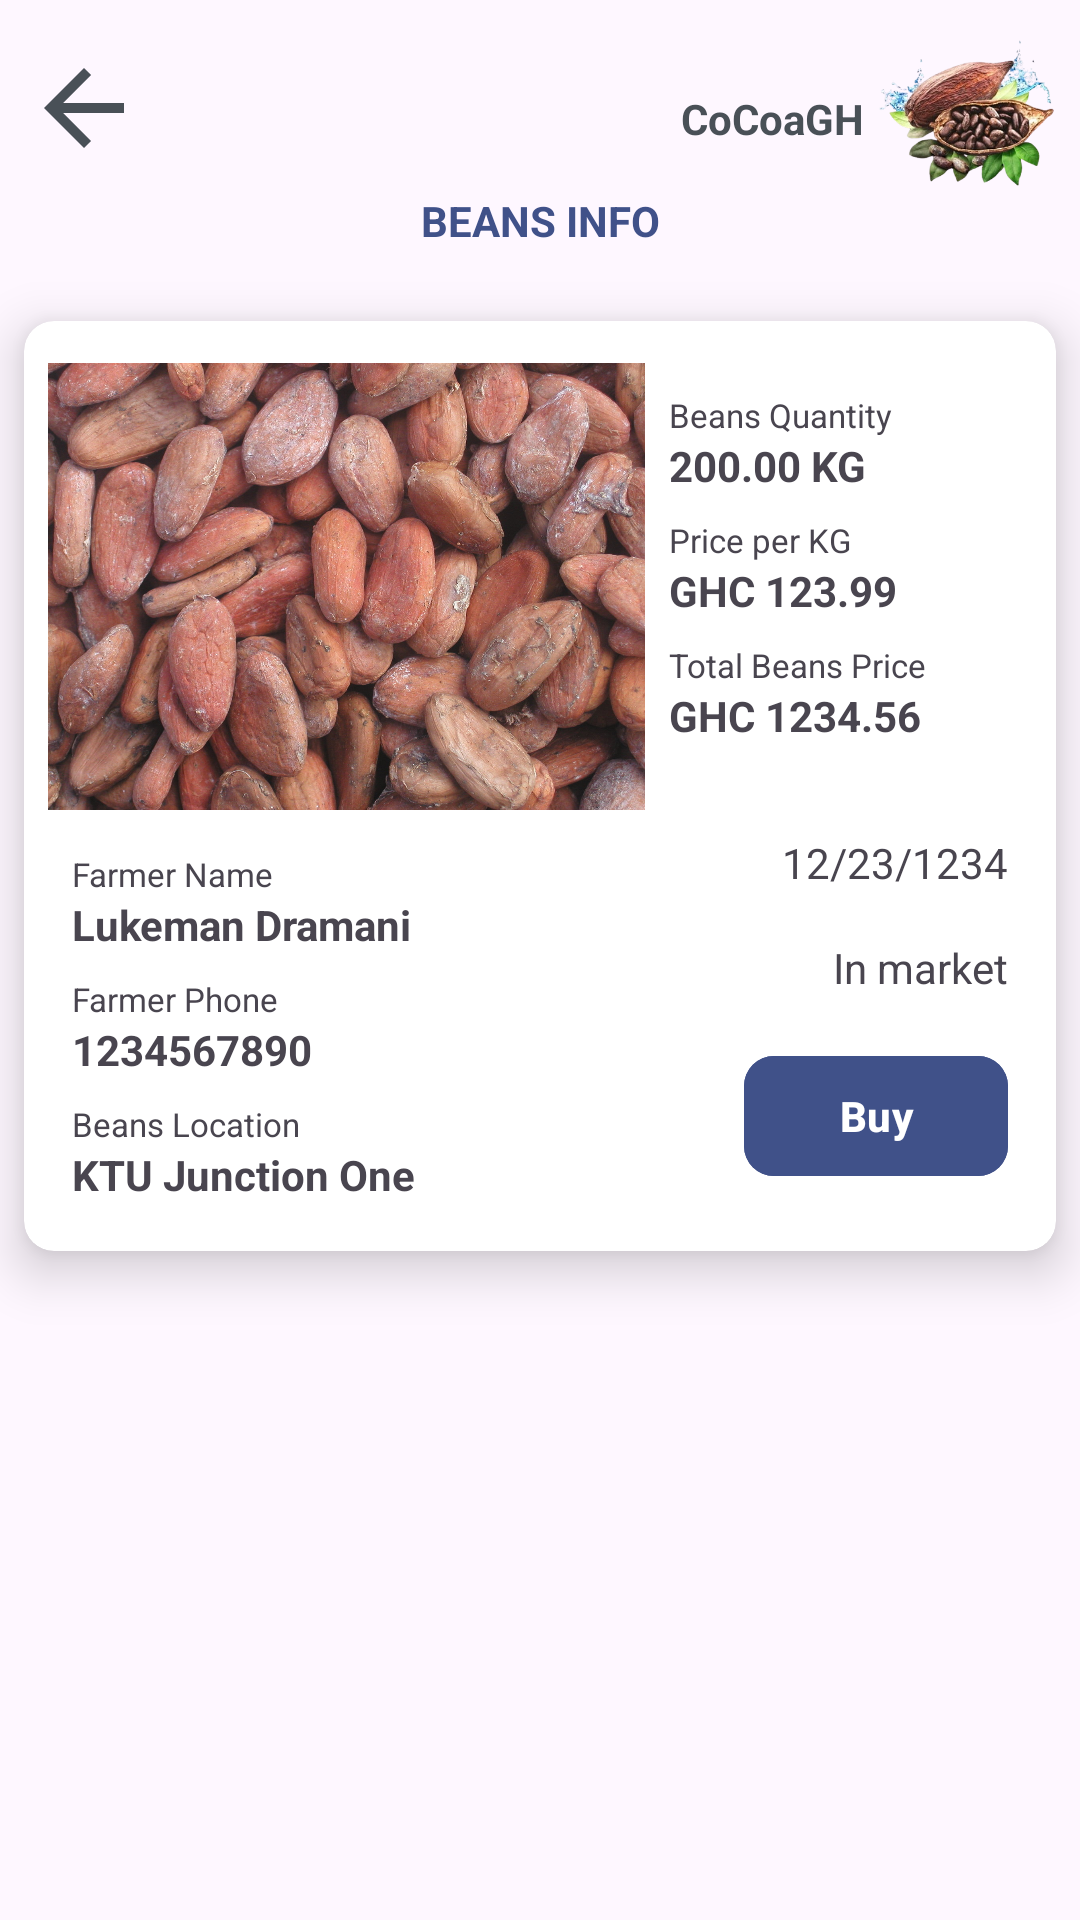

Icon bounding boxes for this 1080w x 1920h phone screenshot, format (x1, y1, x2, y2):
arrow back: (44, 68, 124, 148)
